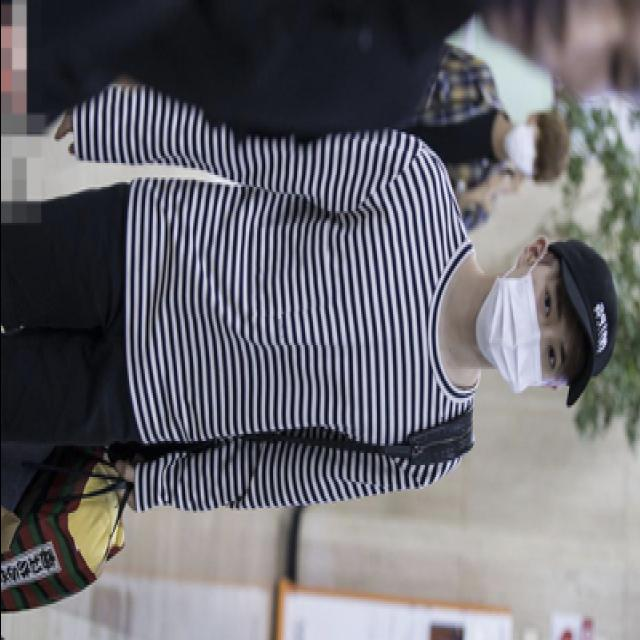mask: (476, 264, 570, 388), (500, 127, 542, 177)
no_mask: (486, 2, 638, 100)
